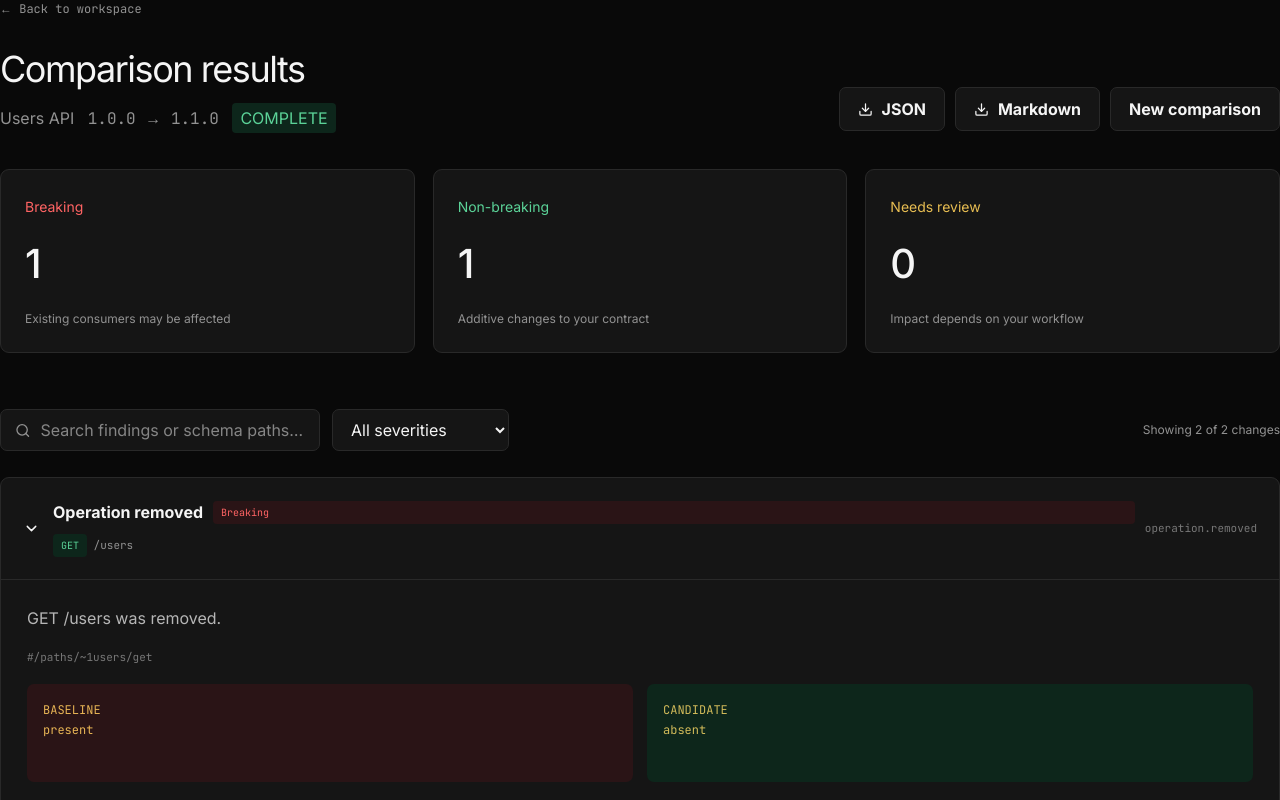
filters findings using the real report fields
expect the text "Operation removed" is shown: met, box [53,500,203,524]
Type "health" into the field with placeholder "Search findings or schema paths…".
click(173, 430); type("health")  # box [40,418,305,442]
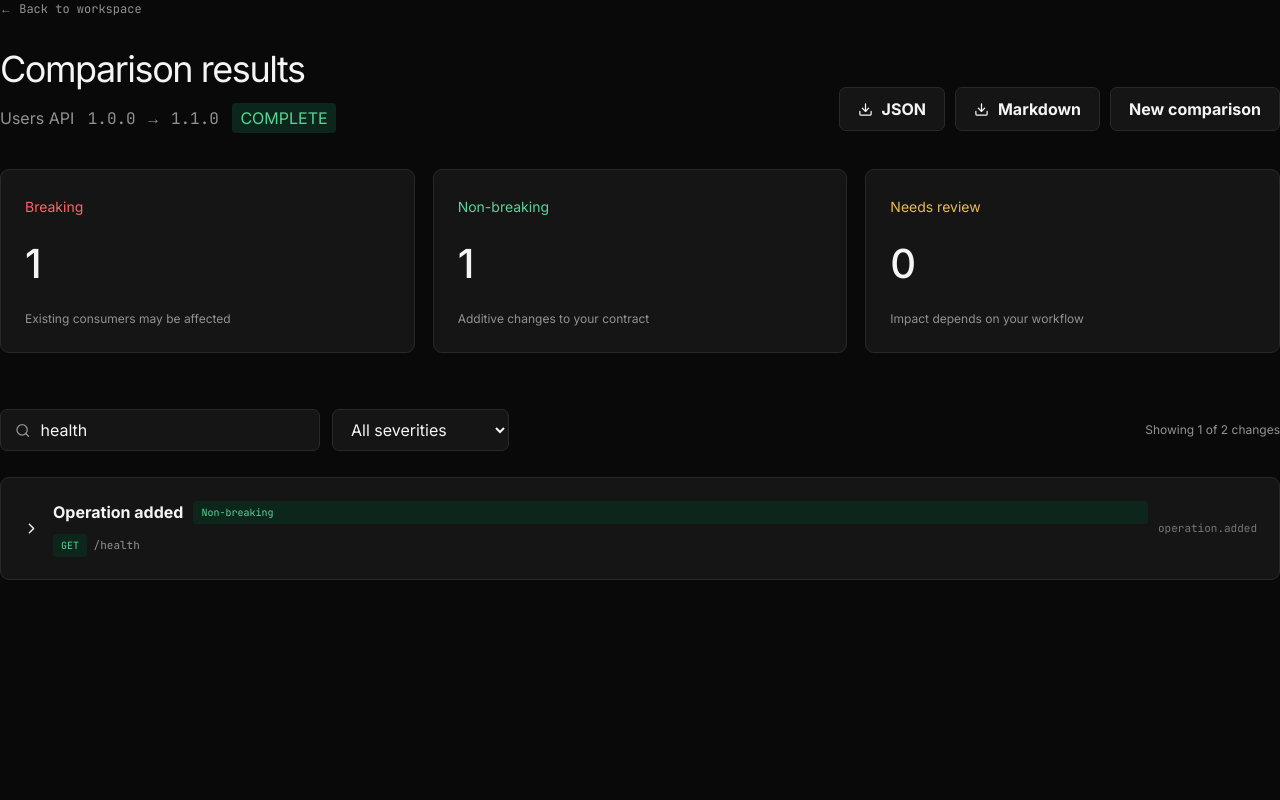
expect the text "Operation added" is shown: met, box [53,500,183,524]
expect the button "Operation removed" is gone: met
